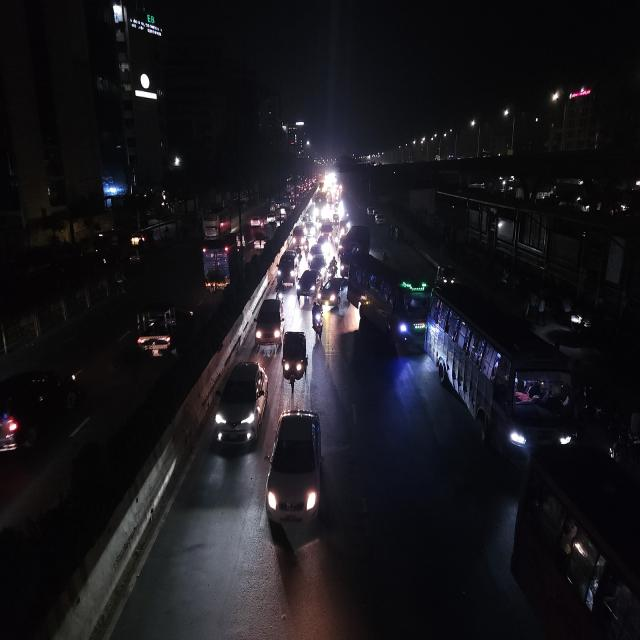bus: (429, 278, 576, 465), (513, 442, 640, 640), (347, 249, 431, 352), (200, 207, 232, 239), (312, 191, 330, 221)
car: (0, 354, 82, 464), (264, 406, 326, 538), (212, 357, 270, 454), (133, 299, 184, 362), (252, 296, 286, 348), (296, 266, 321, 306), (321, 273, 345, 314), (276, 248, 300, 288), (288, 223, 308, 249), (308, 241, 326, 268), (317, 218, 335, 242), (252, 231, 268, 252), (249, 213, 267, 230)
cng: (280, 327, 310, 392)
motorcycle: (125, 233, 147, 266), (308, 305, 327, 343), (328, 255, 338, 279)
truck: (200, 233, 244, 297)
